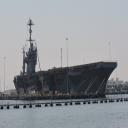Portanaves: (13, 16, 119, 101)
